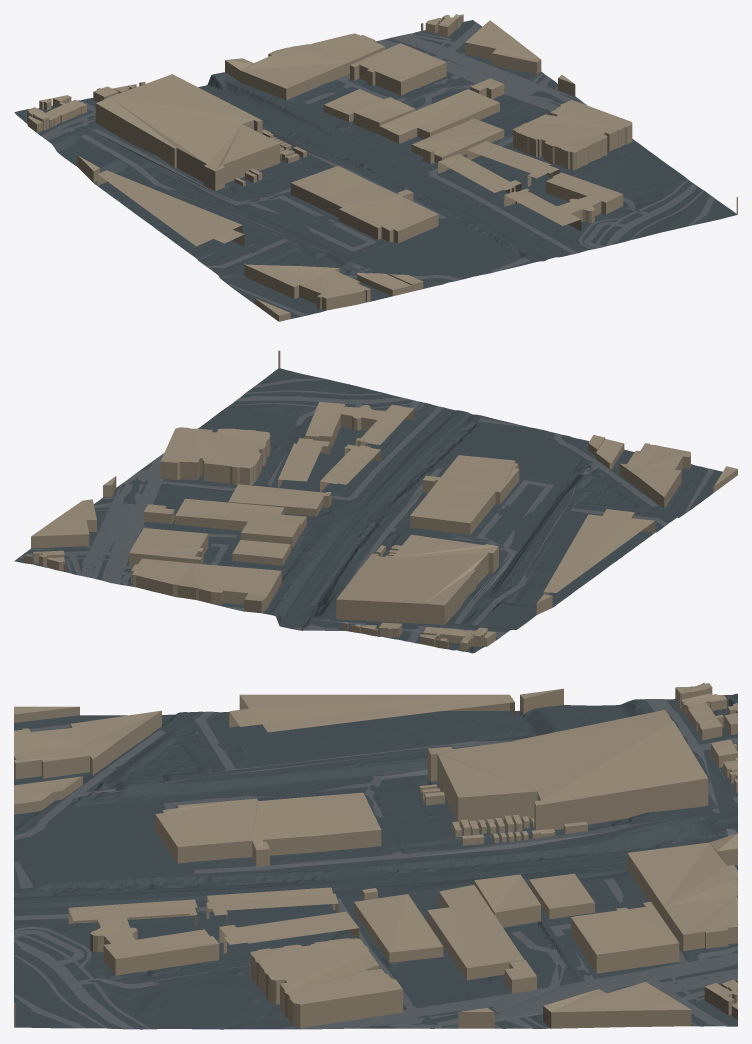
Rendered from epsg26910-1440-10873.lod0.glb.
3 renders of one model, top to bottom at view 1: azimuth 30°, elevation 25°; view 2: azimuth 150°, elevation 25°; view 3: azimuth 270°, elevation 25°, orthographic. The views are drawn at different scales.
Visible parts, largest first — view 1: epsg26910-1440-10873-lod0; view 2: epsg26910-1440-10873-lod0; view 3: epsg26910-1440-10873-lod0.
Boxes of the visible parts, x1,y1,x2,y2 form: epsg26910-1440-10873-lod0: (14,14,737,321); epsg26910-1440-10873-lod0: (14,350,737,653); epsg26910-1440-10873-lod0: (14,682,737,1029).
Size of the model in its own units: 384 by 30.63 by 384.
